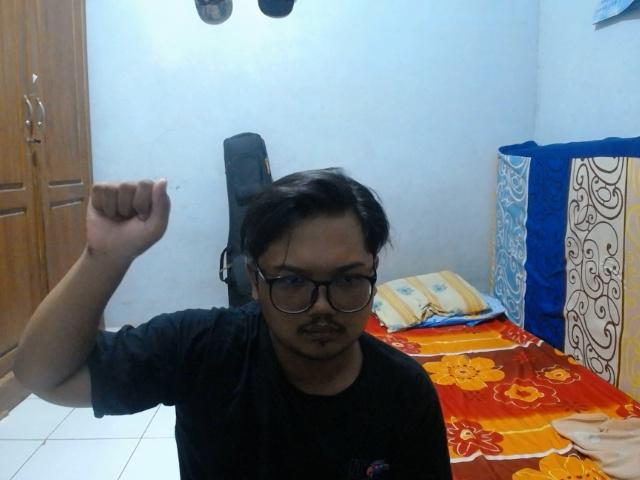Grab: (81, 178, 177, 263)
